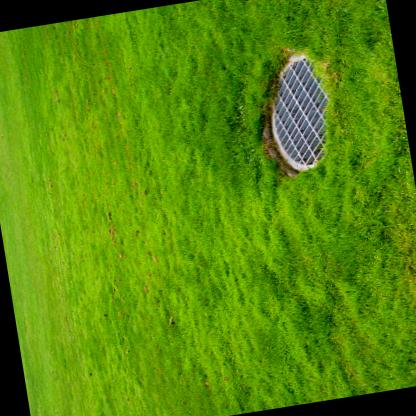manholes: (228, 34, 366, 190)
